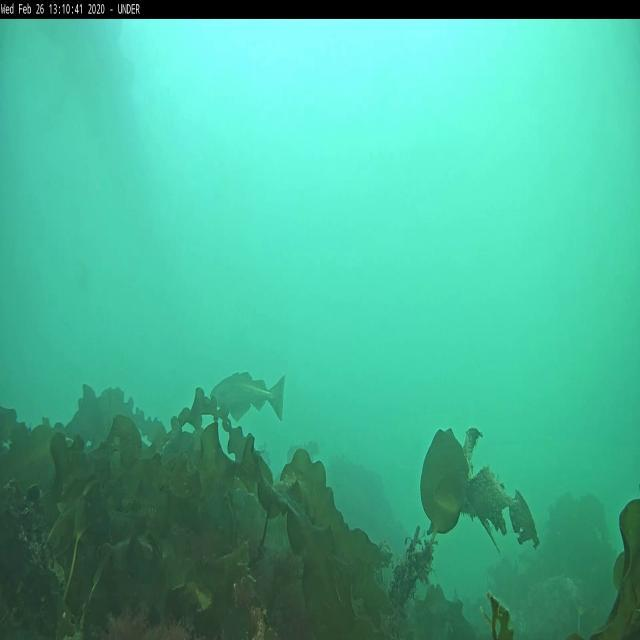fish: (210, 372, 284, 421)
